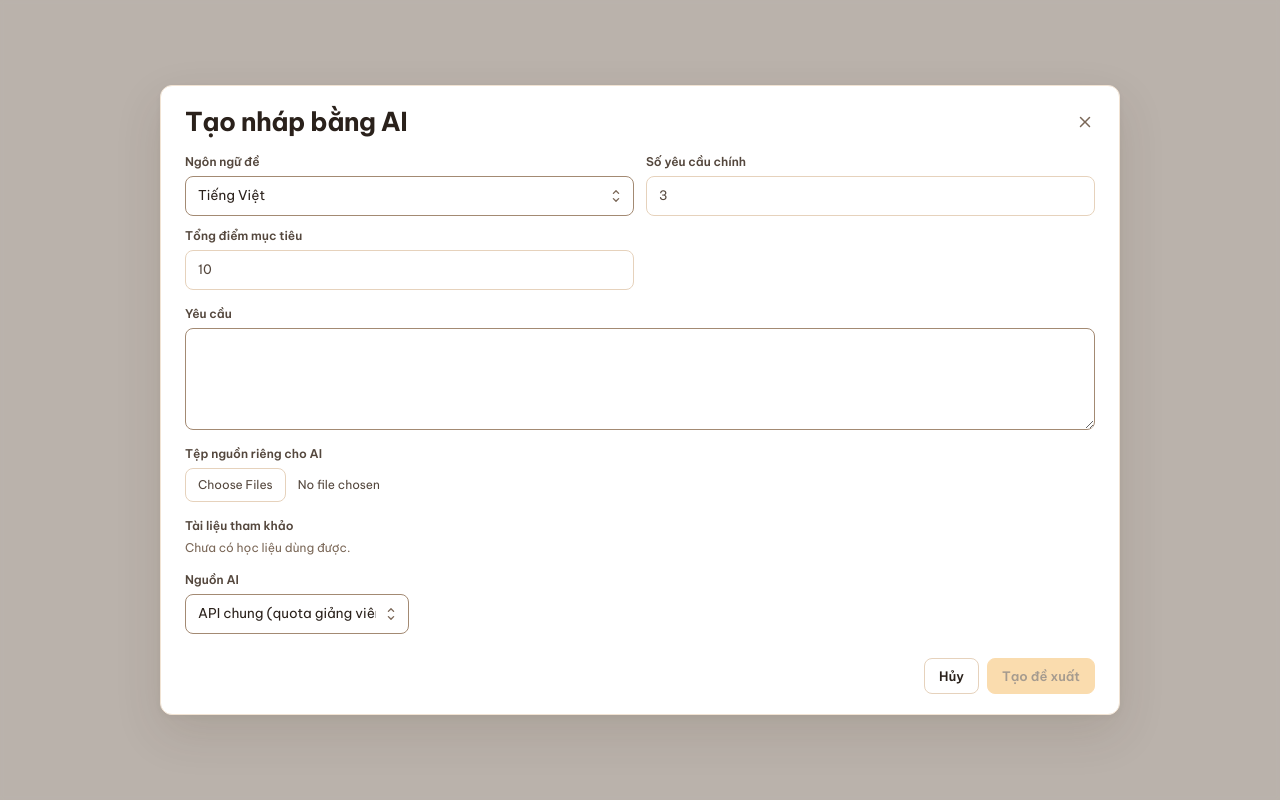
Test case: AiDraftDialog › uses safe title/instruction defaults for Bài tập chưa đặt tên
Type "Create an event exam" into the text box labelled "Yêu cầu" at (640, 379), box [185, 328, 1095, 430]
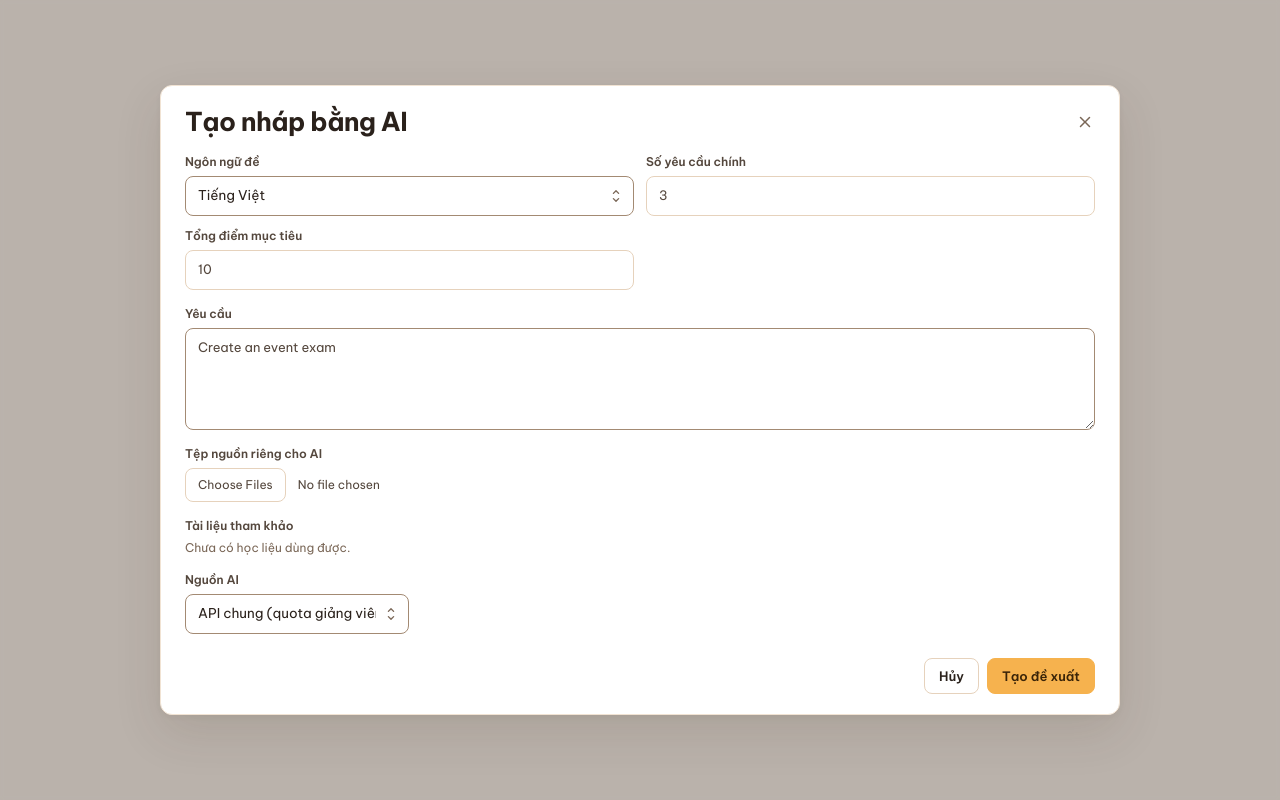
Click the button with test id "ai-send" at (1041, 676), box [987, 658, 1095, 694]
(page scrolled)
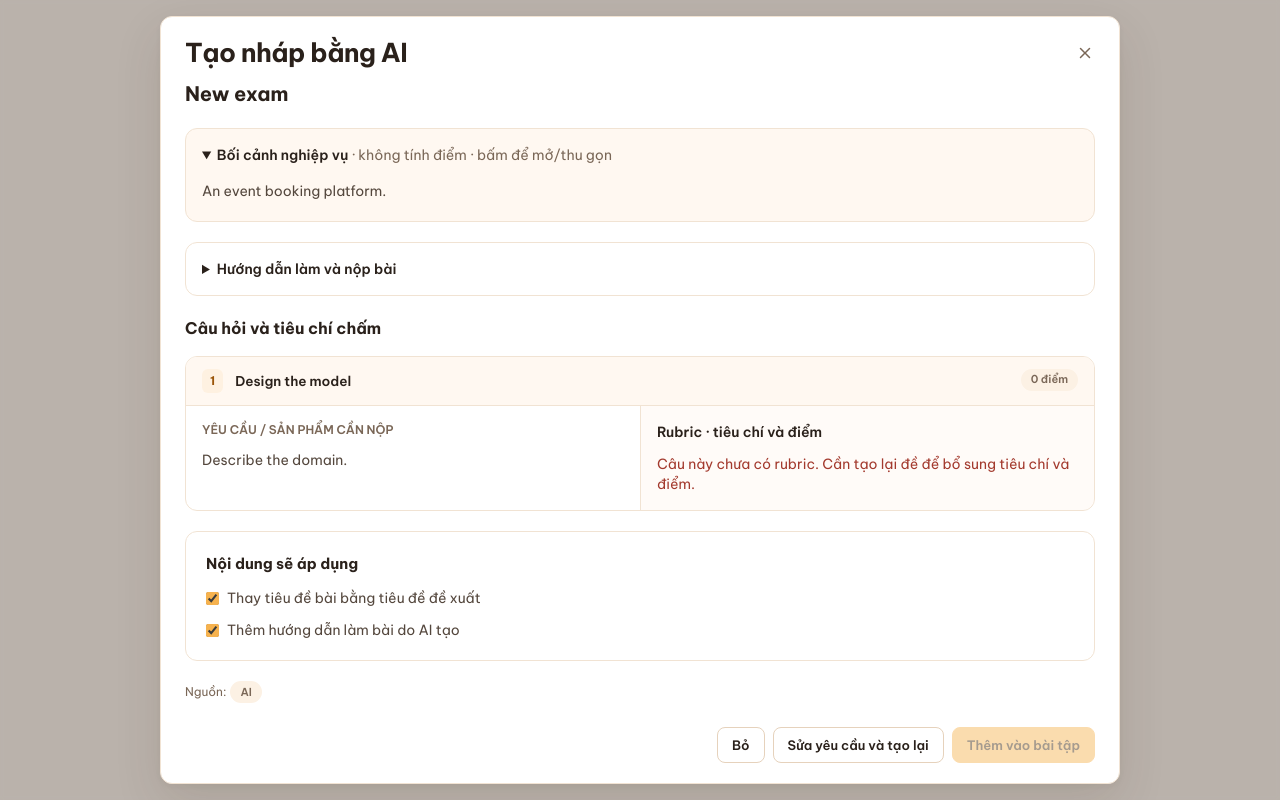
expect the checkbox labelled "Thay tiêu đề bài bằng tiêu đề đề xuất" is checked: met, box [206, 592, 219, 605]
expect the checkbox labelled "Thêm hướng dẫn làm bài do AI tạo" is checked: met, box [206, 624, 219, 637]
